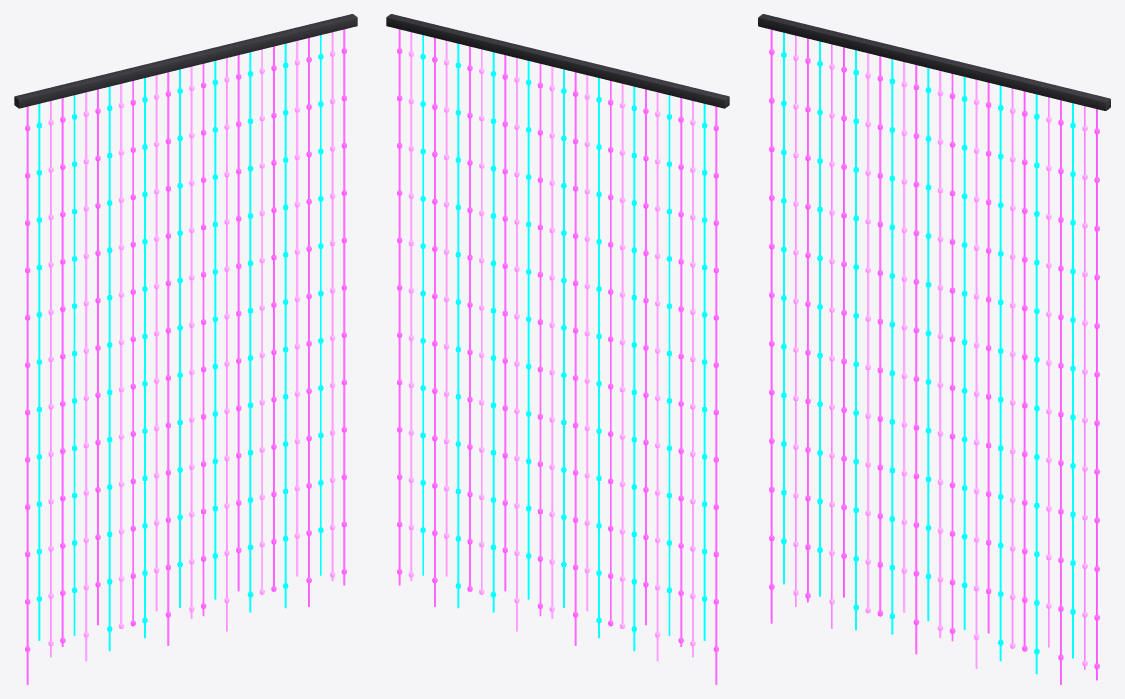
File: KIT_Cortina_Fios_Neon.glb
3 views of the same model, side by side, from view 1: azimuth 30°, elevation 25°; view 2: azimuth 150°, elevation 25°; view 3: azimuth 330°, elevation 25° (orthographic). The views are drawn at different scales.
Parts seen in each view (by area): view 1: KIT_Cortina_Fios_Neon; view 2: KIT_Cortina_Fios_Neon; view 3: KIT_Cortina_Fios_Neon.
Boxes of the visible parts, bbox=[...] form: KIT_Cortina_Fios_Neon: bbox=[14, 14, 357, 684]; KIT_Cortina_Fios_Neon: bbox=[386, 14, 729, 684]; KIT_Cortina_Fios_Neon: bbox=[758, 14, 1110, 684].
Size of the model in its own units: 1.5 by 2.49 by 0.04.
